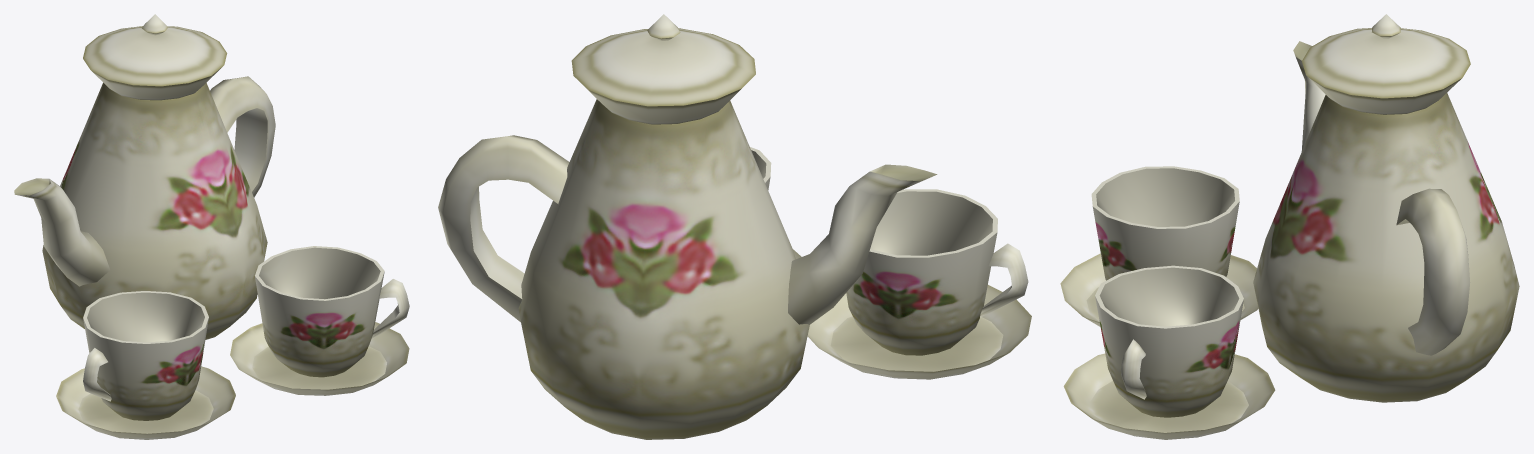
Rendered from AfternoonTeaSet_HD.fbx.
3 views of the same model, side by side, from view 1: azimuth 30°, elevation 25°; view 2: azimuth 150°, elevation 25°; view 3: azimuth 270°, elevation 25° (orthographic). The views are drawn at different scales.
Parts seen in each view (by area): view 1: AfternoonTeaSet; view 2: AfternoonTeaSet; view 3: AfternoonTeaSet.
Boxes of the visible parts, left/top/right/bottom form: AfternoonTeaSet: left=14, top=14, right=409, bottom=439; AfternoonTeaSet: left=438, top=14, right=1031, bottom=439; AfternoonTeaSet: left=1060, top=14, right=1519, bottom=439.
Bounding box in the file's own units: 0.4643 × 0.4027 × 0.4774.
